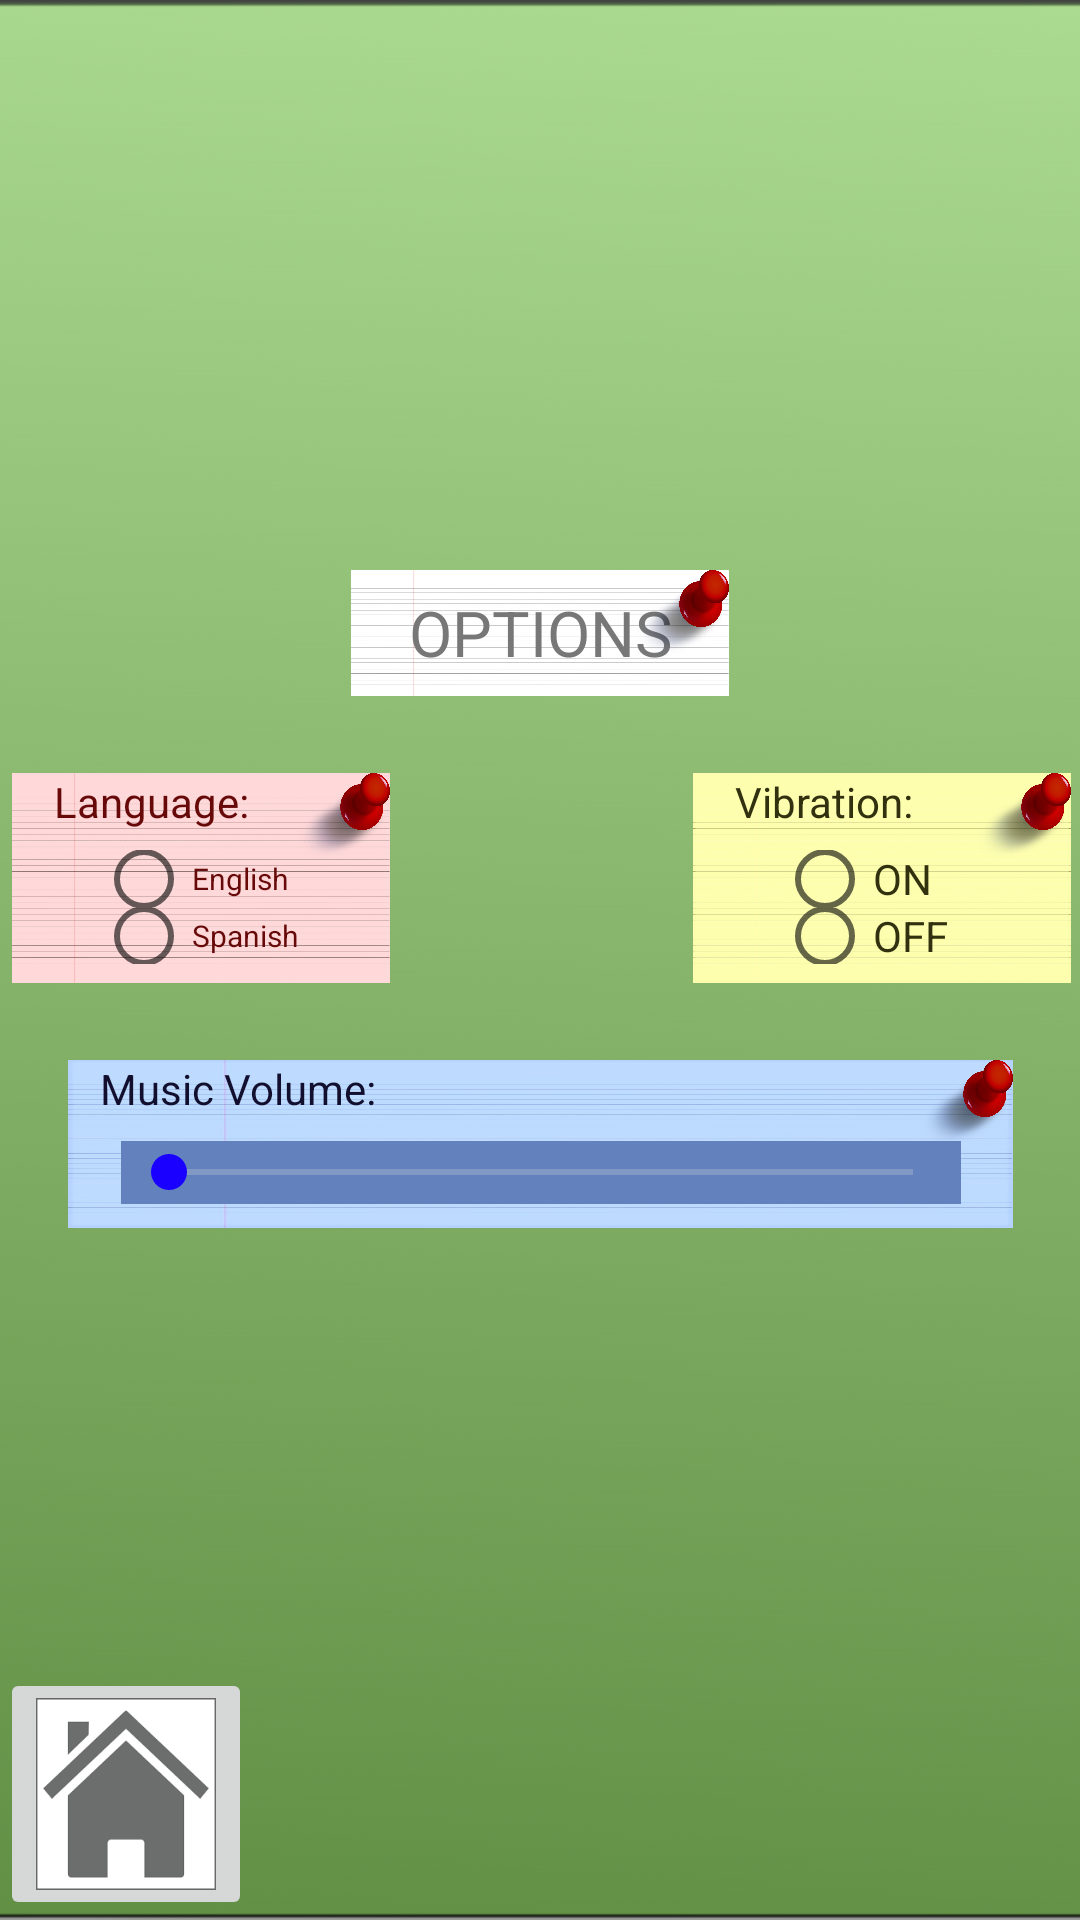

Icons on this 1080x1920 Android screen, each with its box as bbox(x1, y1, x2, y2):
house: bbox(12, 1686, 240, 1902)
